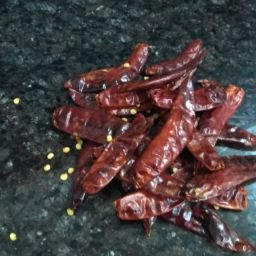Chiptole pepper: (14, 33, 256, 256), (64, 158, 256, 238), (58, 56, 131, 192), (133, 44, 207, 176), (199, 57, 256, 221)
